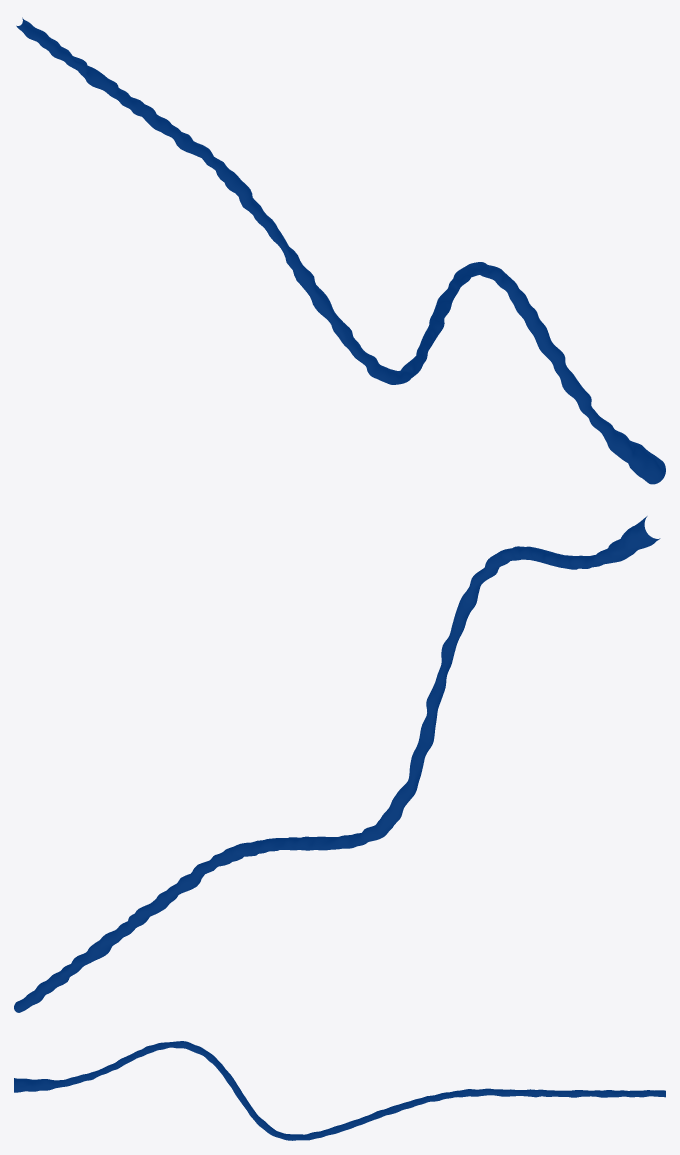
File: TunnelHigh.glb
3 views of the same model, one above another, from view 1: azimuth 30°, elevation 25°; view 2: azimuth 150°, elevation 25°; view 3: azimuth 270°, elevation 25° (orthographic). The views are drawn at different scales.
Visible parts, largest first — view 1: Tunel_V2; view 2: Tunel_V2; view 3: Tunel_V2.
Boxes of the visible parts, x1,y1,x2,y2 form: Tunel_V2: (16, 17, 665, 484); Tunel_V2: (14, 516, 660, 1012); Tunel_V2: (14, 1041, 665, 1140).
Size of the model in its own units: 10.45 by 83.76 by 499.
